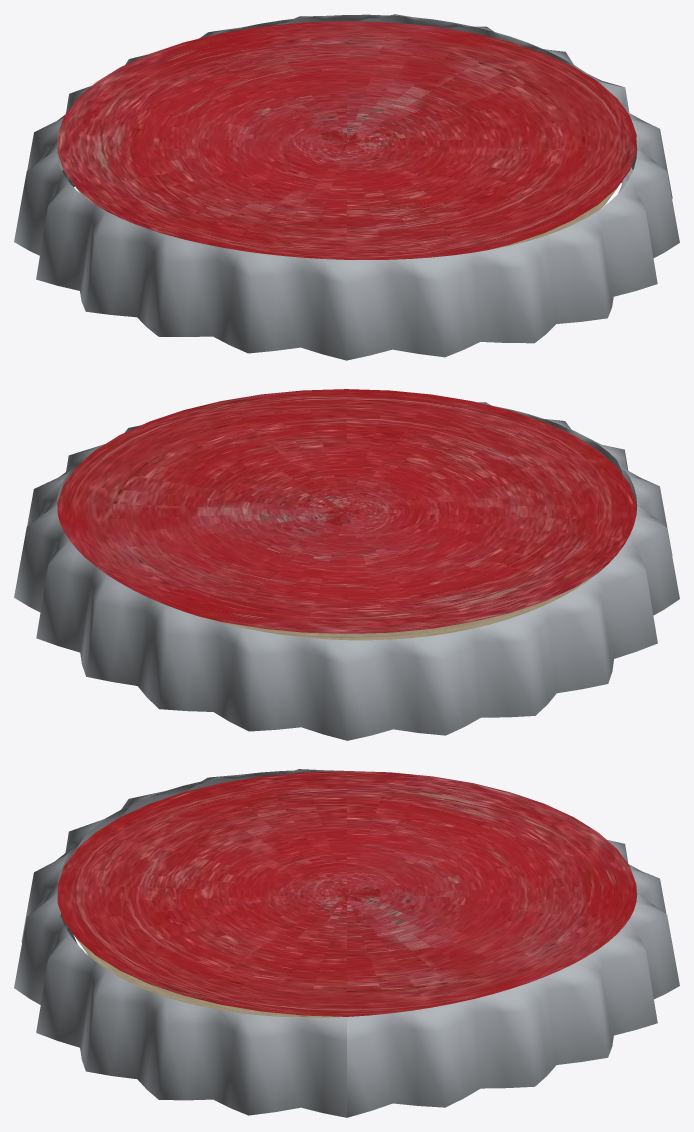
Rendered from guti_bottle_cap.glb.
The picture shows the model from 3 angles, top to bottom: view 1: azimuth 30°, elevation 25°; view 2: azimuth 150°, elevation 25°; view 3: azimuth 270°, elevation 25°; orthographic projection.
Parts seen in each view (by area): view 1: guti_bottle_cap; view 2: guti_bottle_cap; view 3: guti_bottle_cap.
Boxes of the visible parts, x1,y1,x2,y2 form: guti_bottle_cap: (14, 14, 679, 360); guti_bottle_cap: (14, 389, 679, 740); guti_bottle_cap: (14, 769, 679, 1117).
Bounding box in the file's own units: 0.025 × 0.004 × 0.025.
3 materials, 2 textured.
